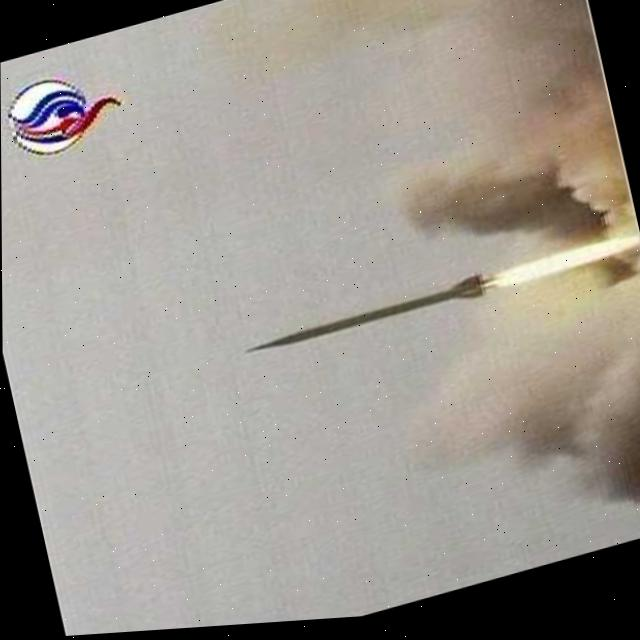missile: (239, 272, 494, 369)
